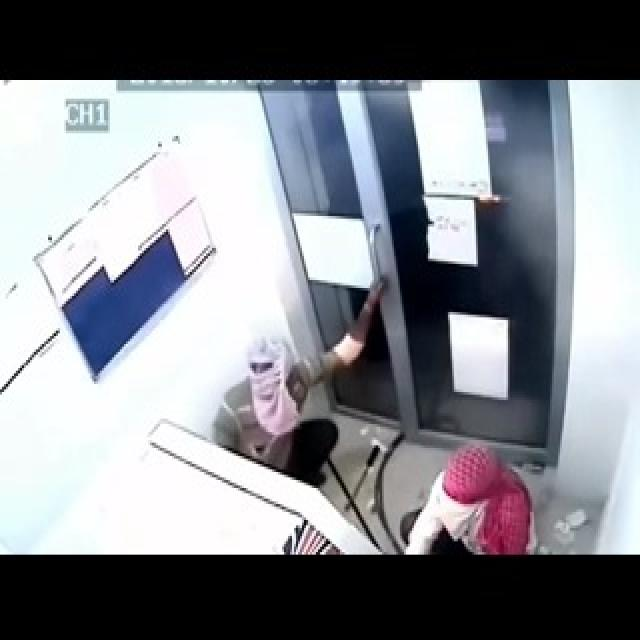thief: (215, 292, 379, 461), (412, 439, 543, 556)
